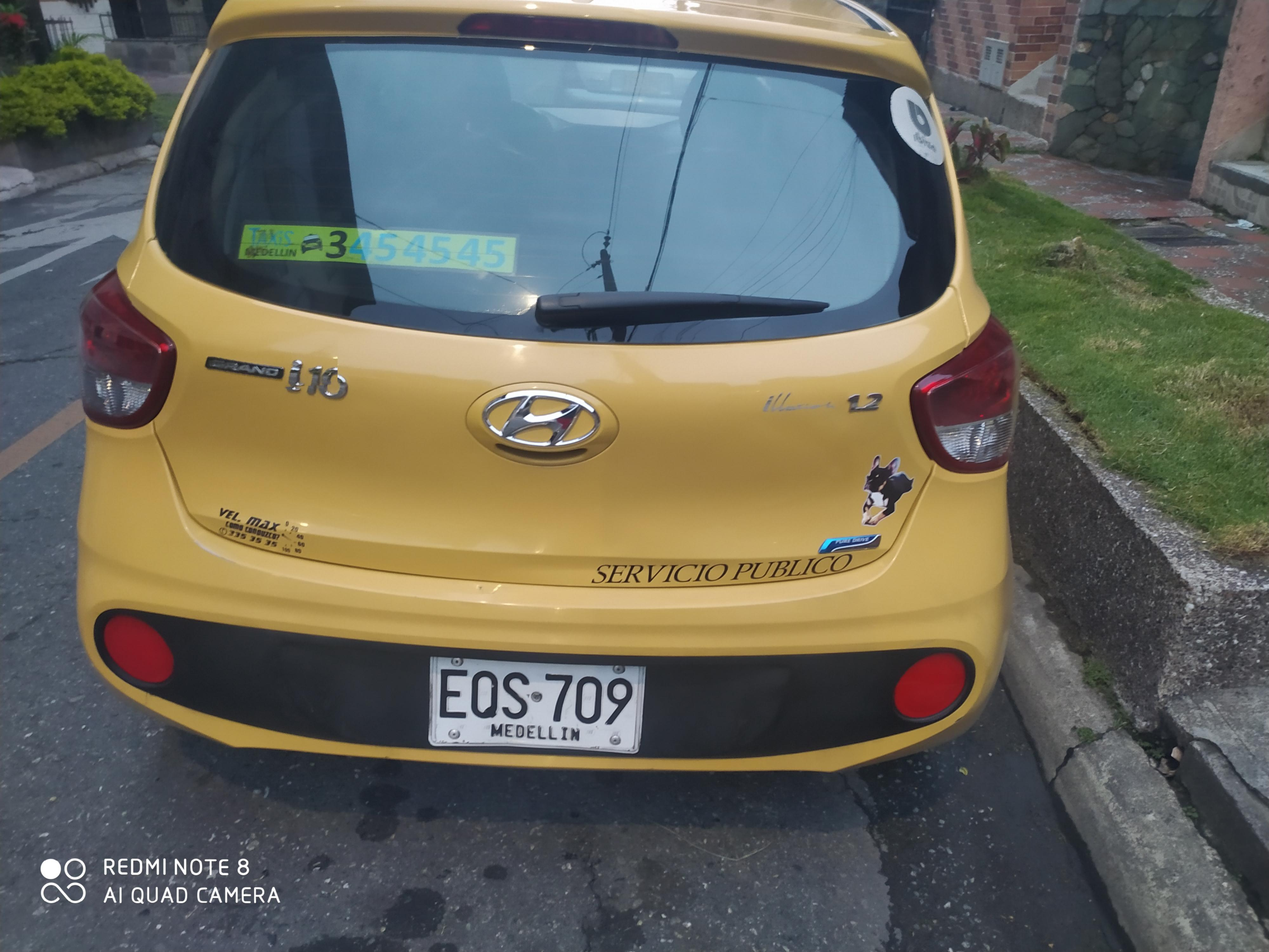placa: (408, 647, 659, 764)
